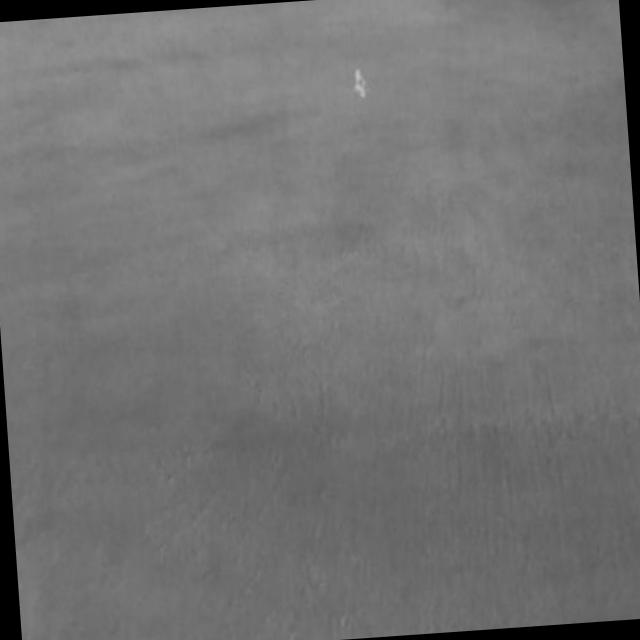person: (353, 68, 370, 100)
